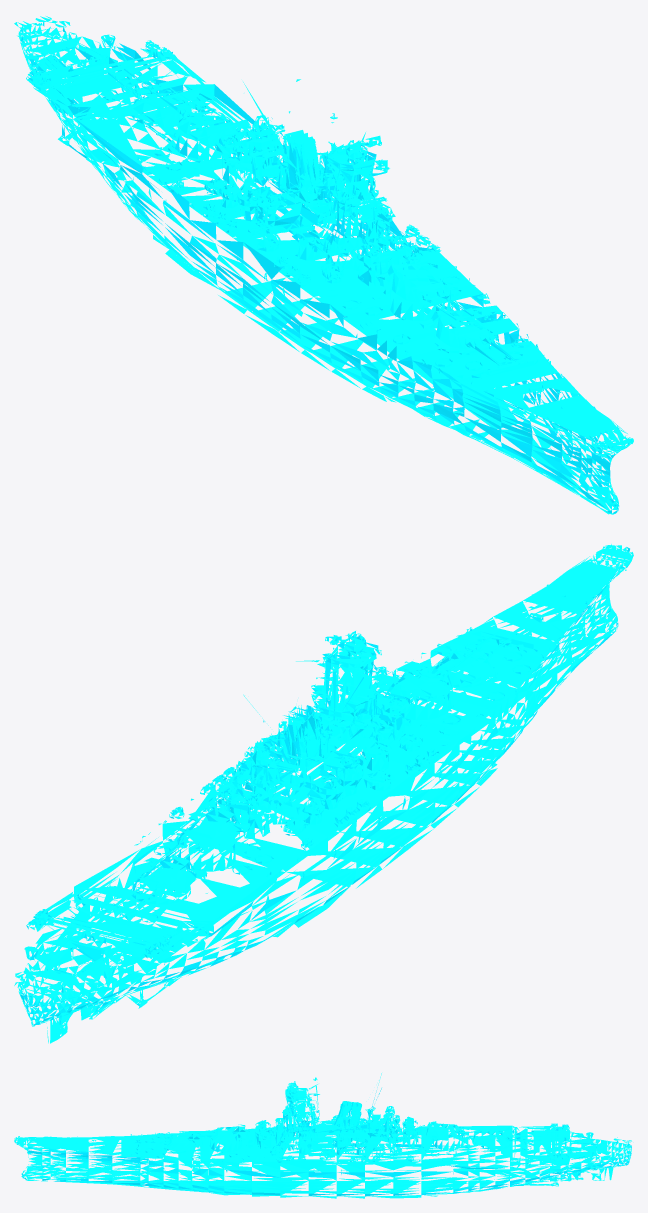
File: PJSB999.glb
3 renders of one model, top to bottom at view 1: azimuth 30°, elevation 25°; view 2: azimuth 150°, elevation 25°; view 3: azimuth 270°, elevation 25°, orthographic. The views are drawn at different scales.
Visible parts, largest first — view 1: hull, turret; view 2: hull, turret; view 3: hull, turret.
Boxes of the visible parts, x1=… form: hull: x1=14, y1=16, x2=633, y2=514; turret: x1=28, y1=40, x2=517, y2=365; hull: x1=14, y1=544, x2=633, y2=1043; turret: x1=28, y1=631, x2=516, y2=954; hull: x1=14, y1=1073, x2=631, y2=1198; turret: x1=133, y1=1115, x2=568, y2=1160.
Size of the model in its own units: 2.83 by 3.68 by 19.91.
